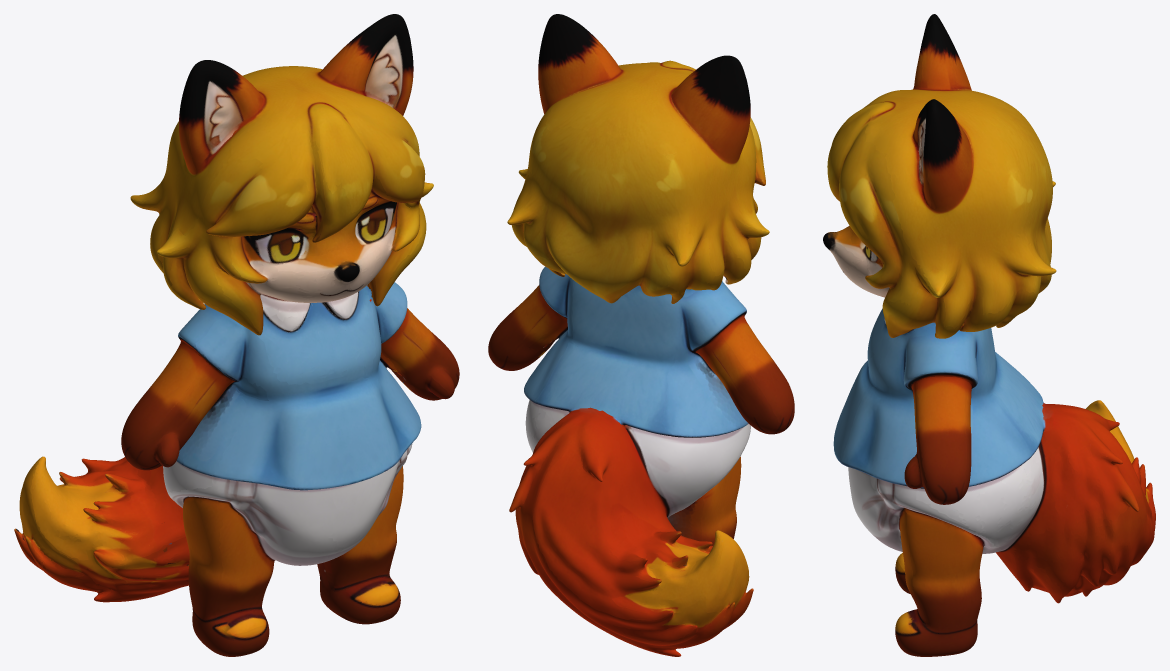
The model's file is flare1.glb.
3 views of the same model, side by side, from view 1: azimuth 30°, elevation 25°; view 2: azimuth 150°, elevation 25°; view 3: azimuth 270°, elevation 25° (orthographic). The views are drawn at different scales.
Parts seen in each view (by area): view 1: temp_mesh.ply; view 2: temp_mesh.ply; view 3: temp_mesh.ply.
Part boxes in pixels (left/top/right/bottom): temp_mesh.ply: left=14, top=14, right=459, bottom=656; temp_mesh.ply: left=488, top=14, right=794, bottom=656; temp_mesh.ply: left=823, top=14, right=1155, bottom=656.
Bounding box in the file's own units: 1.24 × 1.95 × 1.05.
Materials: 1 (1 with a texture image).
